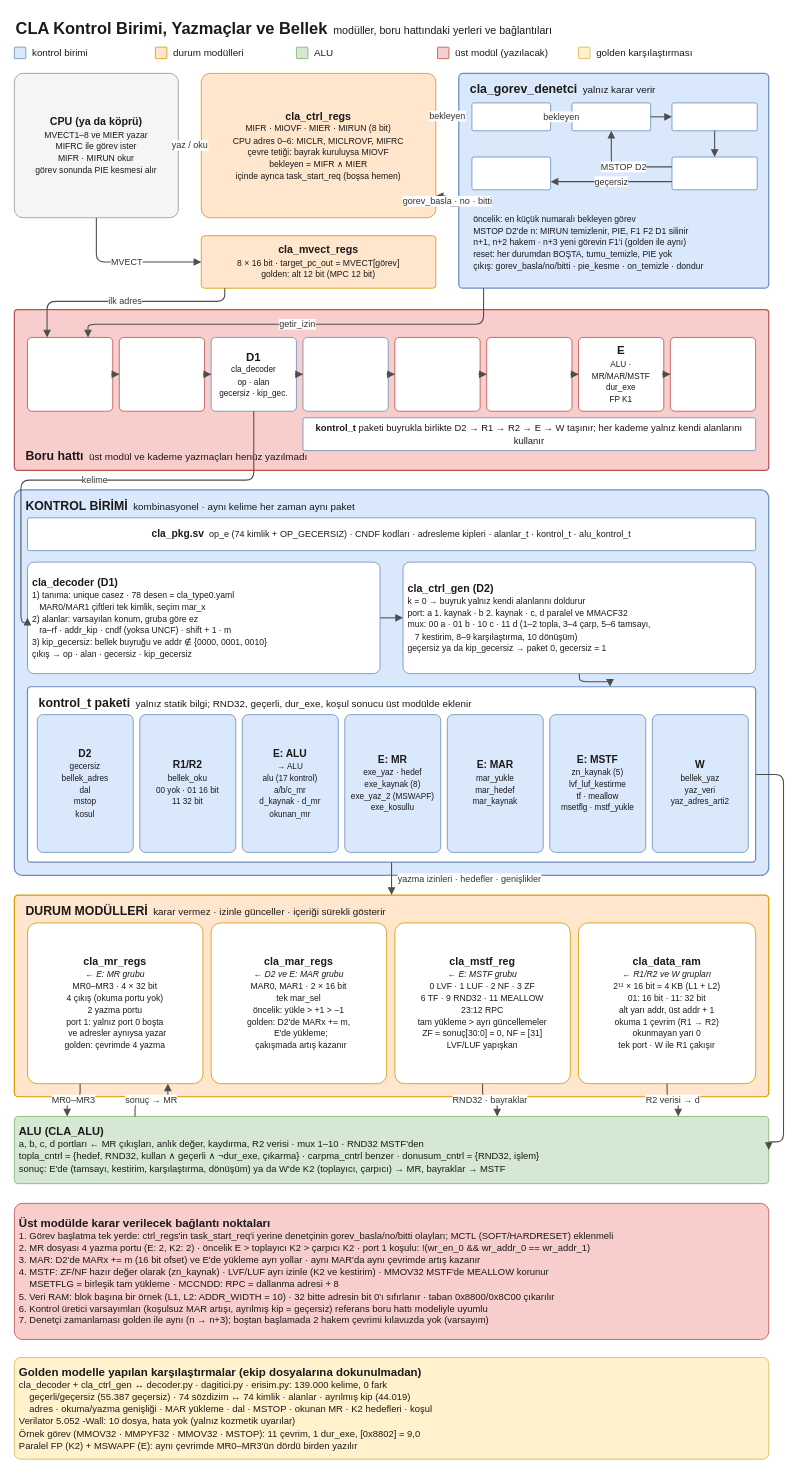
This 805x1474 diagram has some shape labels left out. The shapes that lost their labels are listed below. From the top down, each one's centre as x and y in pixels, then its label:
At point (511, 116): "BOŞTA".
At point (611, 116): "HAKEM1".
At point (714, 116): "HAKEM2 gorev_basla".
At point (511, 173): "DONDU dondur".
At point (714, 173): "CALIŞIYOR getir_izin".
At point (70, 374): "F1 getirme adresi getir_izin ilk adres MVECT".
At point (161, 374): "F2 L3 program RAM (bu dosyalarda yok)".
At point (345, 374): "D2 cla_ctrl_gen → paket adres · MAR += m dal · MSTOP".
At point (437, 374): "R1 adres → RAM dur_r1: aynı blok".
At point (529, 374): "R2 RAM dout 1 çevrim gecikme".
At point (713, 374): "W RAM yazma FP K2 → MR LVF/LUF".
